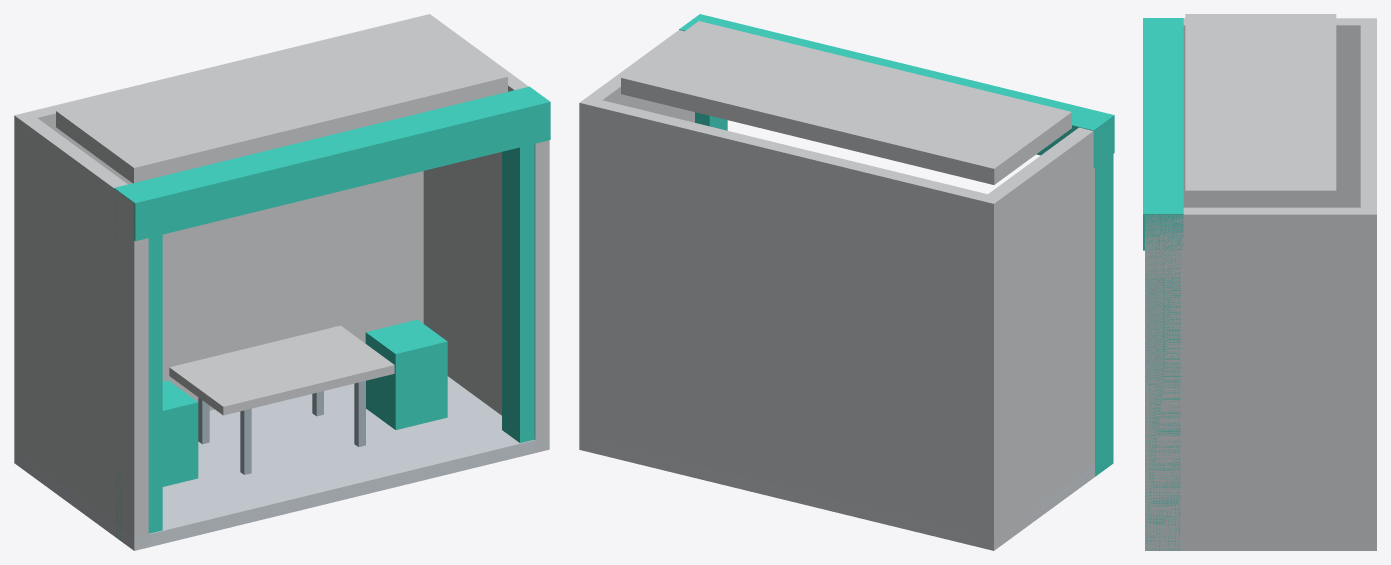
3 renders of one model, left to right at view 1: azimuth 30°, elevation 25°; view 2: azimuth 150°, elevation 25°; view 3: azimuth 270°, elevation 25°, orthographic. The views are drawn at different scales.
Visible parts, largest first — view 1: Exhibition Booth Concept; view 2: Exhibition Booth Concept; view 3: Exhibition Booth Concept.
Part boxes in pixels (x1,y1,x2,y2): Exhibition Booth Concept: (14, 14, 550, 550); Exhibition Booth Concept: (579, 14, 1114, 550); Exhibition Booth Concept: (1143, 14, 1376, 550).
Bounding box in the file's own units: 4 × 3.34 × 2.01.
